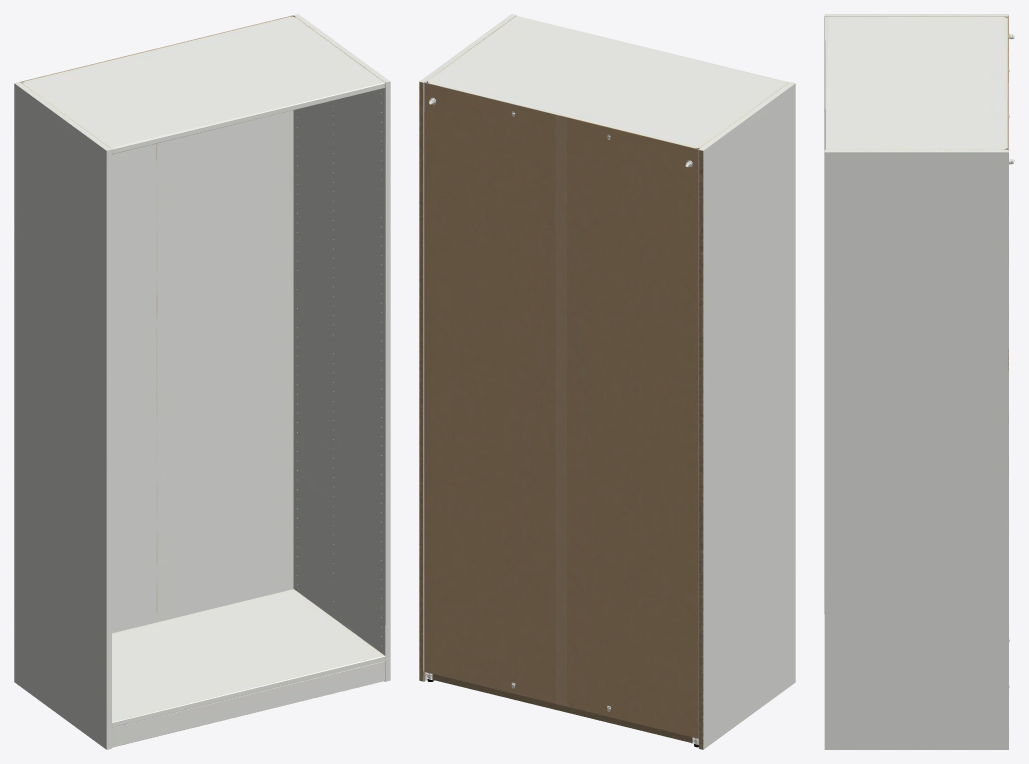
3 renders of one model, left to right at view 1: azimuth 30°, elevation 25°; view 2: azimuth 150°, elevation 25°; view 3: azimuth 270°, elevation 25°, orthographic.
Parts seen in each view (by area): view 1: 24f194b8-ea1b-4756-a0c1-985f88ad18ad; view 2: 24f194b8-ea1b-4756-a0c1-985f88ad18ad; view 3: 24f194b8-ea1b-4756-a0c1-985f88ad18ad.
Boxes of the visible parts, left/top/right/bottom form: 24f194b8-ea1b-4756-a0c1-985f88ad18ad: left=14, top=14, right=390, bottom=749; 24f194b8-ea1b-4756-a0c1-985f88ad18ad: left=419, top=14, right=795, bottom=749; 24f194b8-ea1b-4756-a0c1-985f88ad18ad: left=824, top=14, right=1014, bottom=749.
Bounding box in the file's own units: 0.9979 × 2.01 × 0.5799.
Materials: 2 (1 with a texture image).
